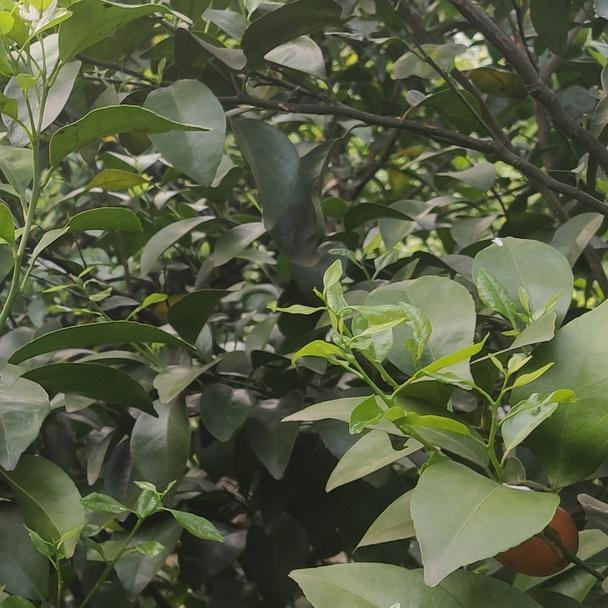shoot: (297, 326, 475, 453), (288, 265, 423, 390), (81, 479, 210, 574), (465, 339, 554, 453)
